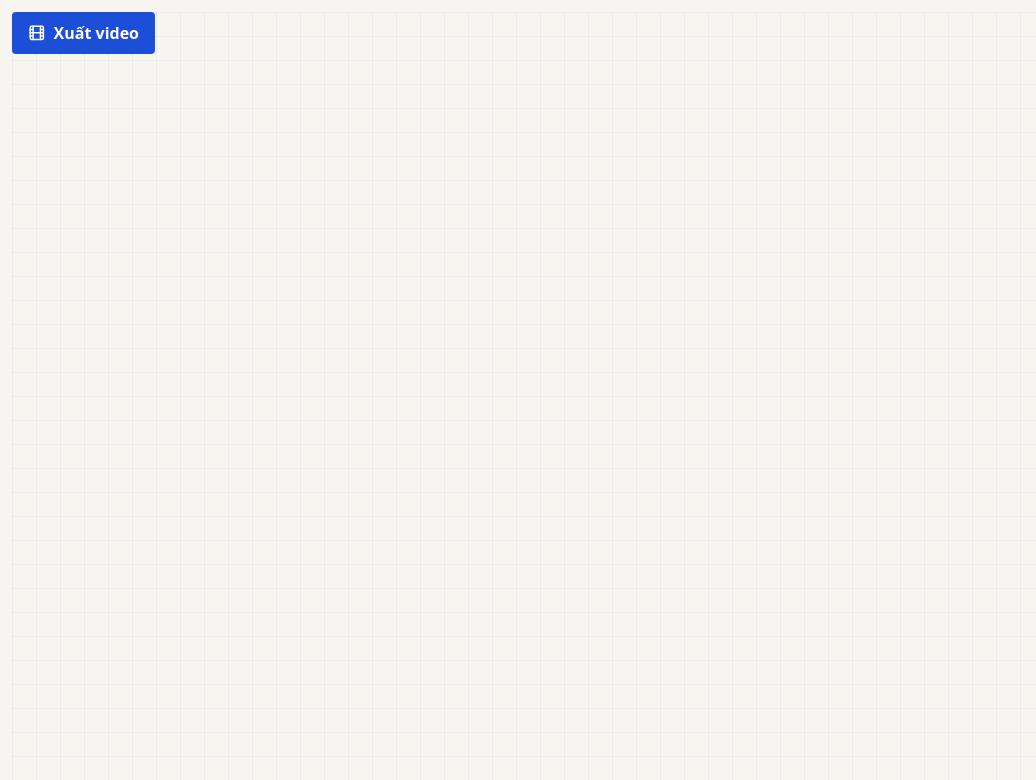
Scenario: ExportControls › tab bị ẩn khi ghi thời gian thực: báo mở lại tab
Click the button "Xuất video". click: click(84, 33)
box: [12,12,155,54]
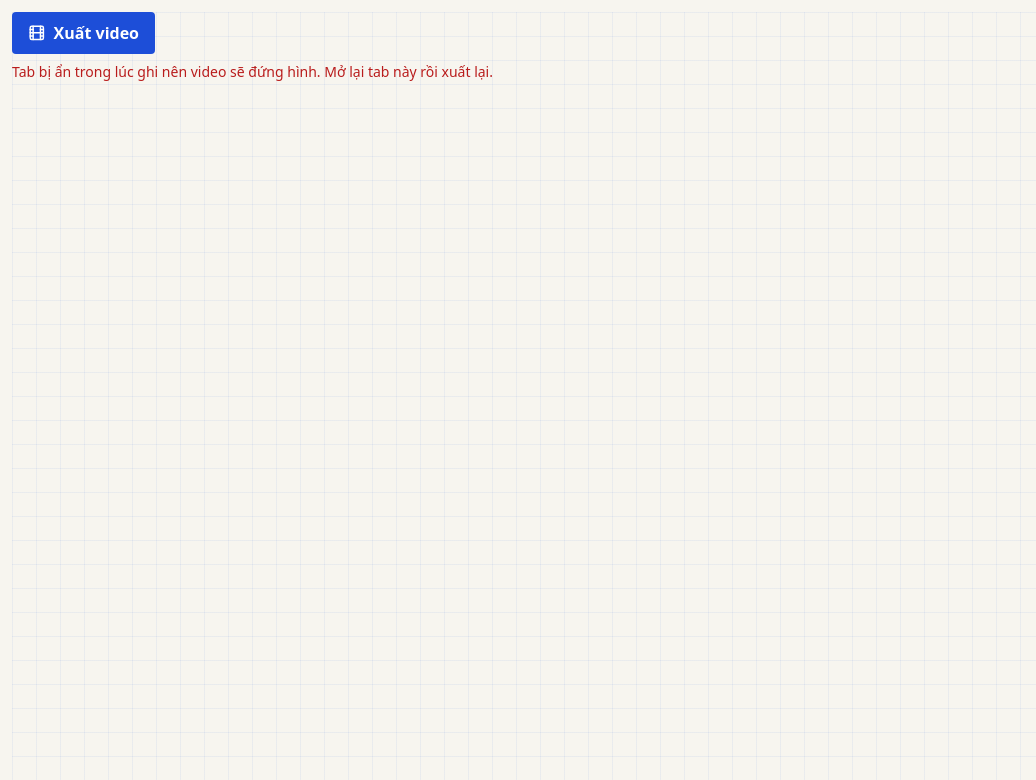
Check: the text "Tab bị ẩn trong lúc ghi nên video sẽ đứng hình. Mở lại tab này rồi xuất lại." is shown, box [12,62,493,81]
